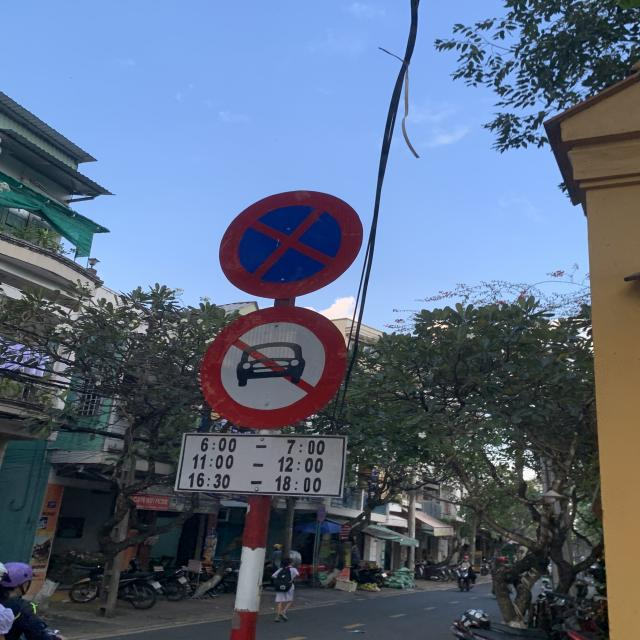Cam_Dung_Va_Dau_Xe: (219, 189, 366, 301)
Cam_O_To: (200, 304, 348, 432)
